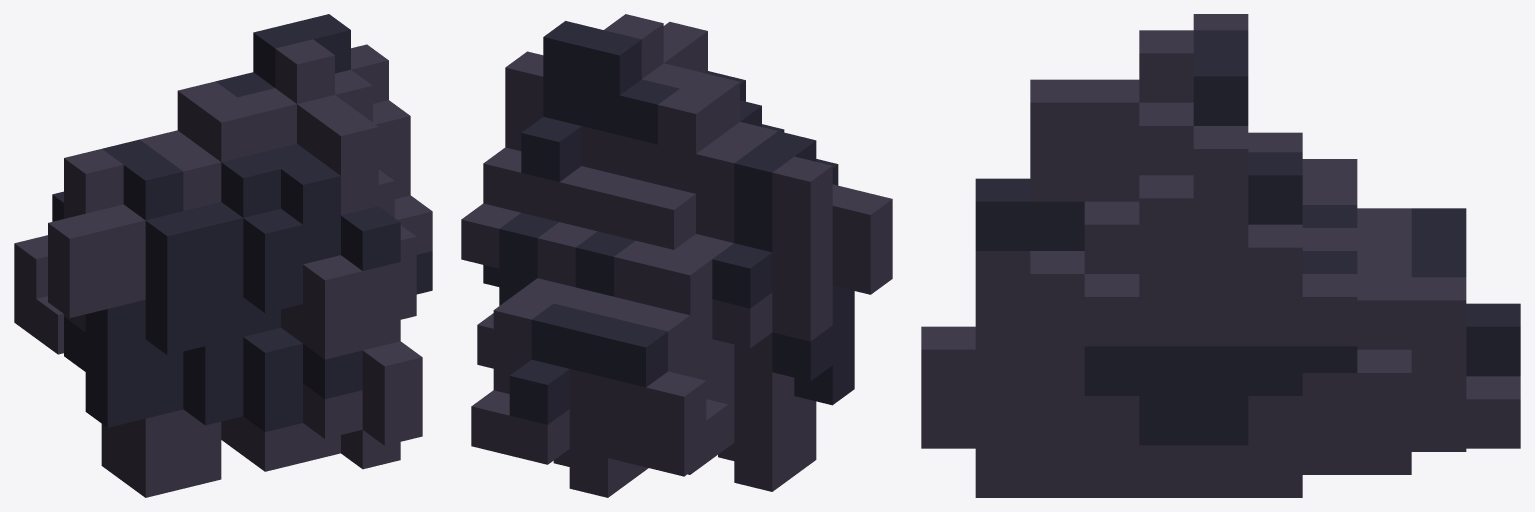
The model's file is meteoro-1.obj.
The picture shows the model from 3 angles, left to right: view 1: azimuth 30°, elevation 25°; view 2: azimuth 150°, elevation 25°; view 3: azimuth 270°, elevation 25°; orthographic projection. The views are drawn at different scales.
Size of the model in its own units: 0.9 by 1 by 1.1.
1 material, 1 textured.
